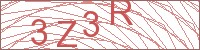3: (30, 18, 49, 45), (82, 10, 100, 37)
R: (109, 1, 134, 26)
Z: (56, 20, 79, 48)
